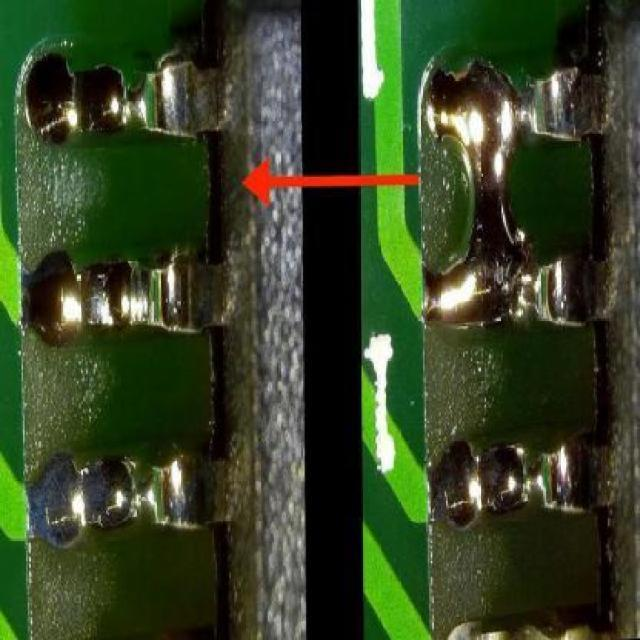Soldering shorted: (420, 52, 578, 332)
